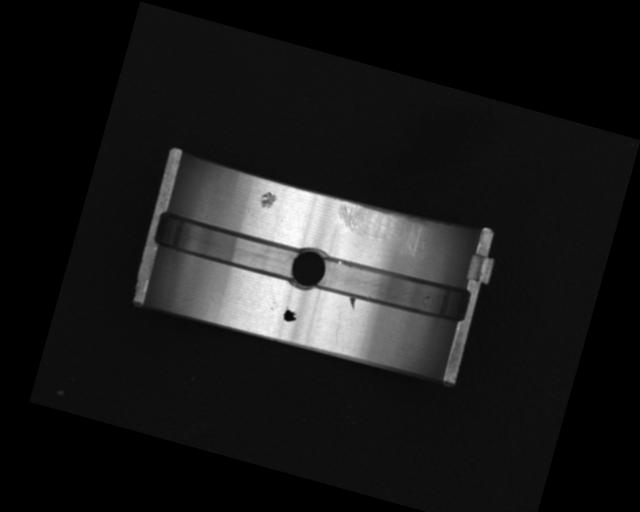blot: (281, 306, 299, 324)
bruise: (256, 189, 279, 212), (345, 295, 357, 310)
gap: (315, 249, 470, 327), (149, 208, 304, 285)
hole: (286, 242, 332, 294)
nick: (330, 311, 346, 344)
scratch: (331, 197, 434, 256)
